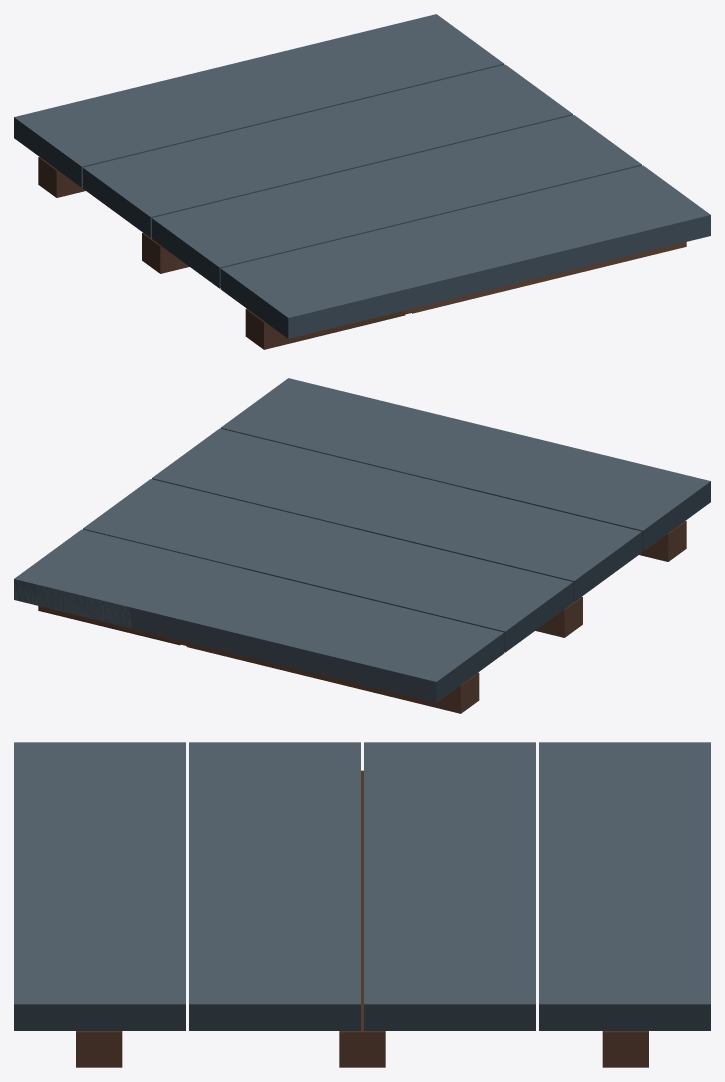
The model's file is i01_modular_bridge_span.glb.
3 views of the same model, one above another, from view 1: azimuth 30°, elevation 25°; view 2: azimuth 150°, elevation 25°; view 3: azimuth 270°, elevation 25° (orthographic). The views are drawn at different scales.
Parts seen in each view (by area): view 1: I01_Intact, I01_Broken_Deck_Slab_01_Matching_Fragments, I01_Broken_Deck_Slab_02_Matching_Fragments, I01_Broken_Deck_Slab_04_Matching_Fragments, I01_Broken_Deck_Slab_03_Matching_Fragments, I01_Broken_Underside_Beam_01_Matching_Fragments, I01_Broken_Underside_Beam_03_Matching_Fragments, I01_Broken_Underside_Beam_02_Matching_Fragments; view 2: I01_Intact, I01_Broken_Deck_Slab_04_Matching_Fragments, I01_Broken_Deck_Slab_01_Matching_Fragments, I01_Broken_Deck_Slab_02_Matching_Fragments, I01_Broken_Deck_Slab_03_Matching_Fragments, I01_Broken_Underside_Beam_03_Matching_Fragments, I01_Broken_Underside_Beam_01_Matching_Fragments, I01_Broken_Underside_Beam_02_Matching_Fragments; view 3: I01_Intact, I01_Broken_Deck_Slab_01_Matching_Fragments, I01_Broken_Deck_Slab_04_Matching_Fragments, I01_Broken_Deck_Slab_02_Matching_Fragments, I01_Broken_Deck_Slab_03_Matching_Fragments, I01_Broken_Underside_Beam_02_Matching_Fragments, I01_Broken_Underside_Beam_03_Matching_Fragments, I01_Broken_Underside_Beam_01_Matching_Fragments.
Boxes of the visible parts, x1,y1,x2,y2 form: I01_Intact: (14,18,710,346); I01_Broken_Deck_Slab_01_Matching_Fragments: (220,173,710,338); I01_Broken_Deck_Slab_02_Matching_Fragments: (152,115,641,288); I01_Broken_Deck_Slab_04_Matching_Fragments: (14,14,504,187); I01_Broken_Deck_Slab_03_Matching_Fragments: (83,64,572,237); I01_Broken_Underside_Beam_01_Matching_Fragments: (245,242,686,349); I01_Broken_Underside_Beam_03_Matching_Fragments: (38,157,85,197); I01_Broken_Underside_Beam_02_Matching_Fragments: (142,233,189,273); I01_Intact: (14,380,690,710); I01_Broken_Deck_Slab_04_Matching_Fragments: (14,536,504,701); I01_Broken_Deck_Slab_01_Matching_Fragments: (220,378,710,551); I01_Broken_Deck_Slab_02_Matching_Fragments: (152,428,641,601); I01_Broken_Deck_Slab_03_Matching_Fragments: (83,479,572,652); I01_Broken_Underside_Beam_03_Matching_Fragments: (38,606,479,713); I01_Broken_Underside_Beam_01_Matching_Fragments: (639,521,686,561); I01_Broken_Underside_Beam_02_Matching_Fragments: (535,597,582,637); I01_Intact: (14,742,710,1064); I01_Broken_Deck_Slab_01_Matching_Fragments: (14,742,185,1030); I01_Broken_Deck_Slab_04_Matching_Fragments: (539,742,710,1030); I01_Broken_Deck_Slab_02_Matching_Fragments: (189,742,360,1030); I01_Broken_Deck_Slab_03_Matching_Fragments: (364,742,535,1030); I01_Broken_Underside_Beam_02_Matching_Fragments: (339,770,385,1067); I01_Broken_Underside_Beam_03_Matching_Fragments: (602,1031,648,1067); I01_Broken_Underside_Beam_01_Matching_Fragments: (76,1031,122,1067).
Bounding box in the file's own units: 4 × 0.45 × 4.5.
